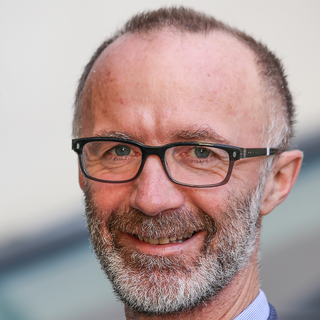eye: (179, 141, 225, 164), (98, 140, 140, 163)
